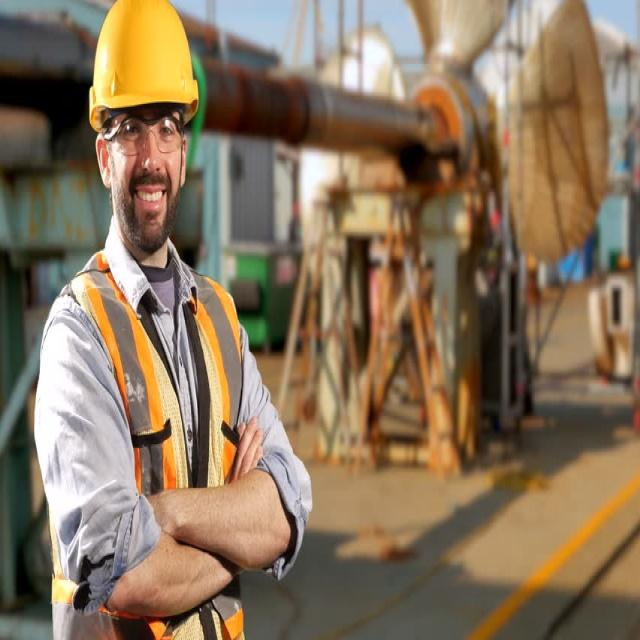helmet: (85, 4, 199, 339)
vest: (31, 331, 281, 640)
